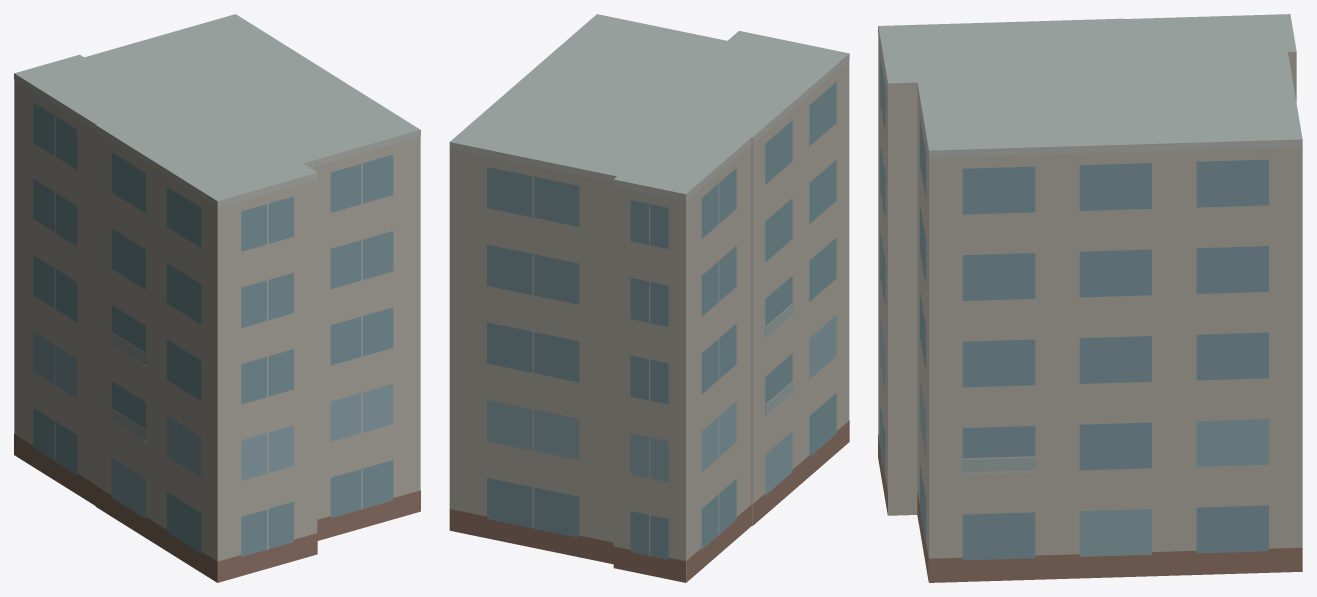
File: survey-upis-32737174.glb
3 views of the same model, side by side, from view 1: azimuth 30°, elevation 25°; view 2: azimuth 150°, elevation 25°; view 3: azimuth 270°, elevation 25° (orthographic). The views are drawn at different scales.
Visible parts, largest first — view 1: survey-upis-32737174.tmp; view 2: survey-upis-32737174.tmp; view 3: survey-upis-32737174.tmp.
Part boxes in pixels (bbox=[...]): survey-upis-32737174.tmp: bbox=[14, 14, 420, 582]; survey-upis-32737174.tmp: bbox=[449, 14, 849, 582]; survey-upis-32737174.tmp: bbox=[878, 14, 1302, 582].
Bounding box in the file's own units: 9.83 × 14.5 × 12.91.
